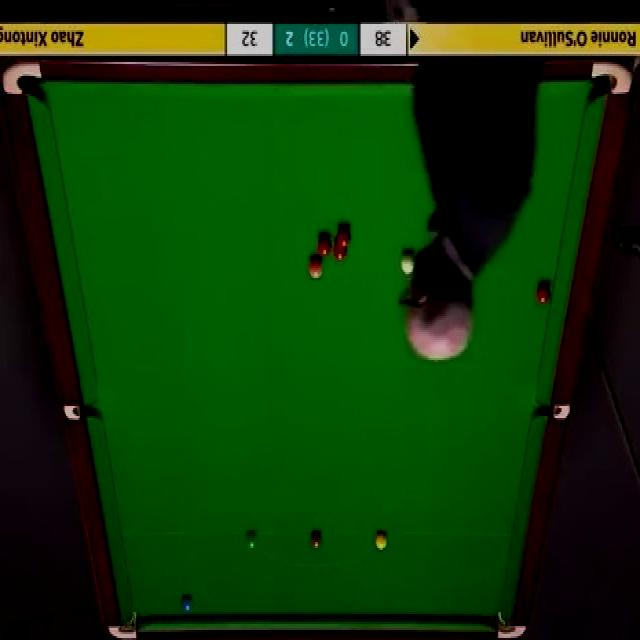blue-ball: (180, 596, 194, 616)
brown-ball: (310, 531, 323, 548)
green-ball: (244, 528, 258, 552)
pink-ball: (308, 256, 324, 280)
red-ball: (333, 238, 347, 262), (336, 226, 351, 248), (536, 282, 550, 305), (316, 235, 330, 255)
white-ball: (400, 252, 414, 274)
yellow-ball: (374, 530, 388, 551)
